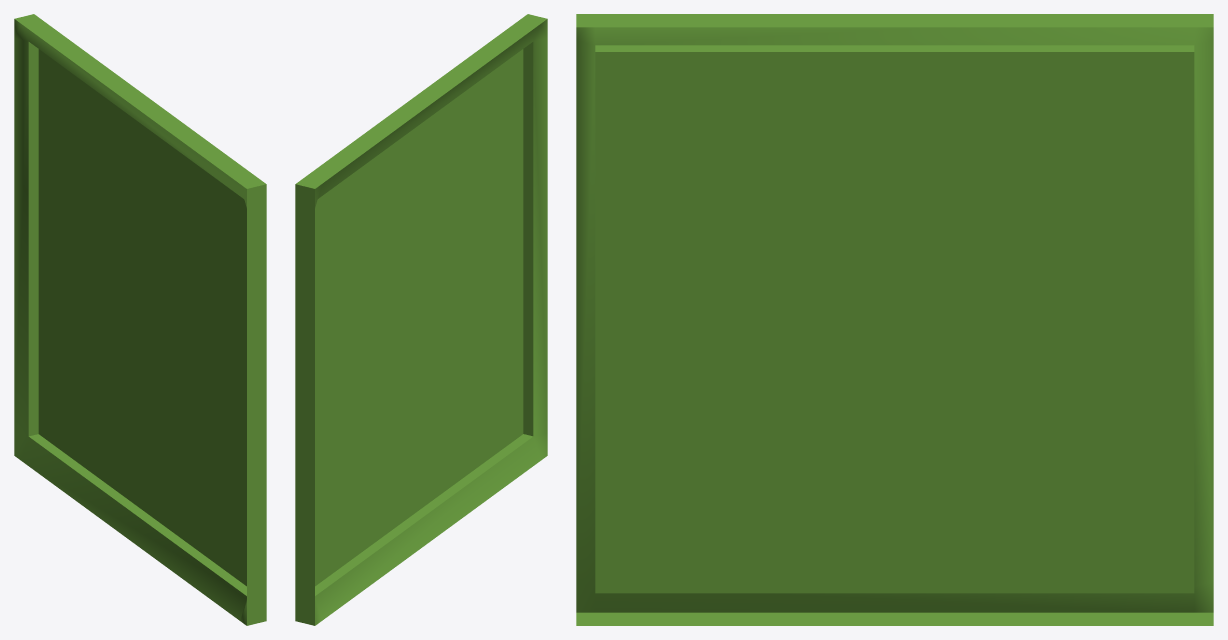
Rendered from SetoMirror.fbx.
3 views of the same model, side by side, from view 1: azimuth 30°, elevation 25°; view 2: azimuth 150°, elevation 25°; view 3: azimuth 270°, elevation 25° (orthographic). The views are drawn at different scales.
Parts seen in each view (by area): view 1: Mirror; view 2: Mirror; view 3: Mirror.
Boxes of the visible parts, x1,y1,x2,y2 form: Mirror: [14, 14, 266, 625]; Mirror: [295, 14, 547, 625]; Mirror: [576, 14, 1213, 625].
Size of the model in its own units: 3.23 by 68.37 by 65.94.
